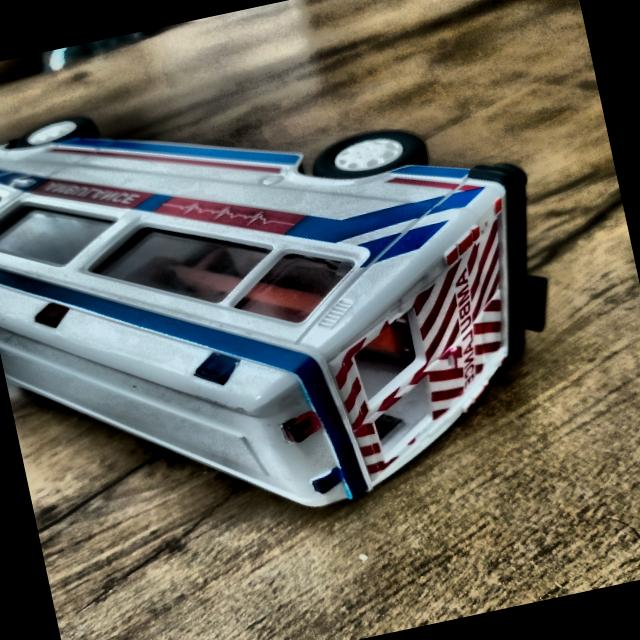Ambulance: (0, 17, 597, 580)
